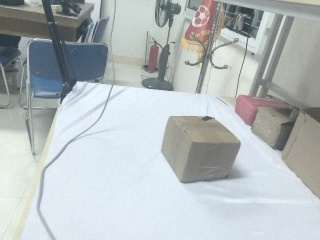box: (160, 115, 241, 184), (280, 104, 320, 214), (251, 106, 303, 151), (233, 91, 287, 126)
